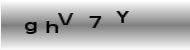7: (88, 15, 101, 28)
V: (57, 12, 73, 25)
Y: (116, 9, 129, 23)
g: (24, 21, 37, 34)
h: (46, 20, 58, 33)
